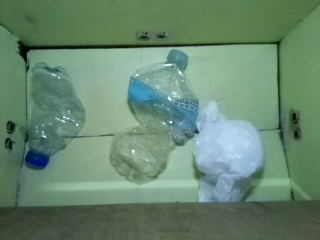damaged-bottle: (109, 49, 200, 184), (20, 61, 87, 172)
plastic-bag: (192, 100, 266, 204)
